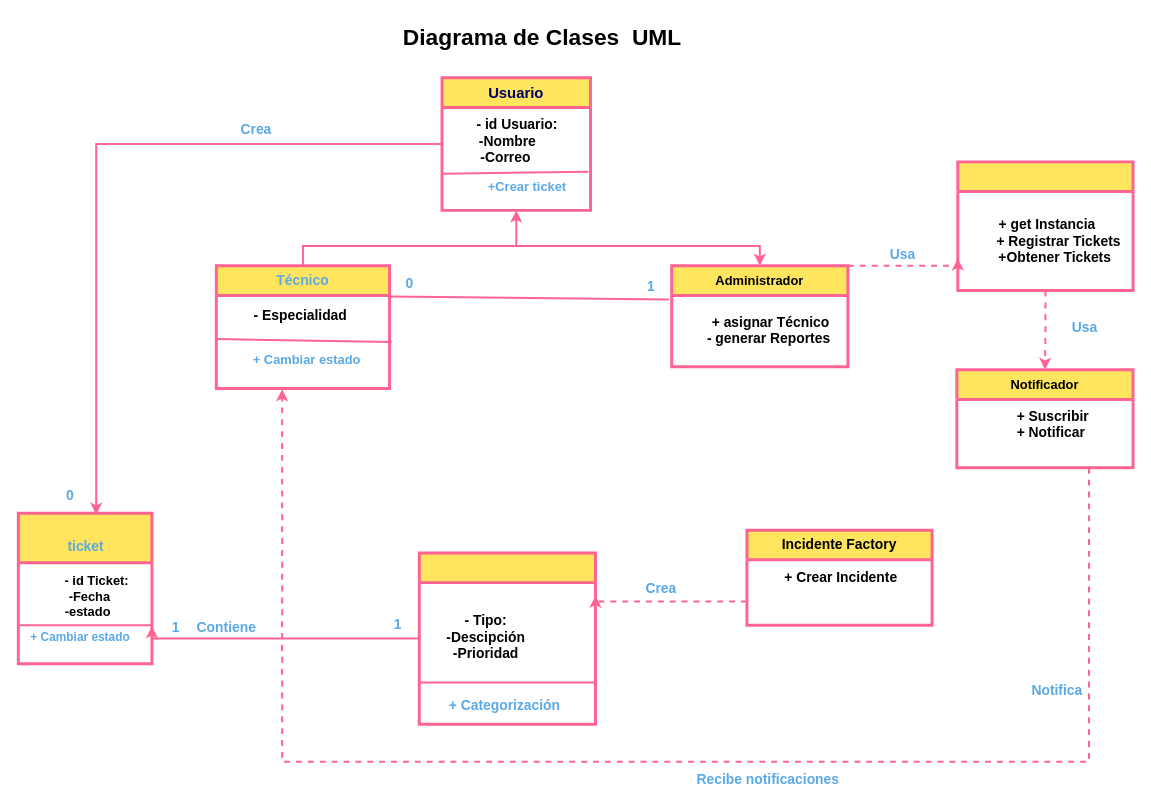
Image size: 1151x810. Some labels were removed from this diagram. The shapes that lost their labels are listed below. From the top down, each one's box as (x1, y1, x2, y2) in pixels, then its label:
(956, 160, 1134, 292): Gestor Tickets
(417, 551, 596, 725): Incidente
